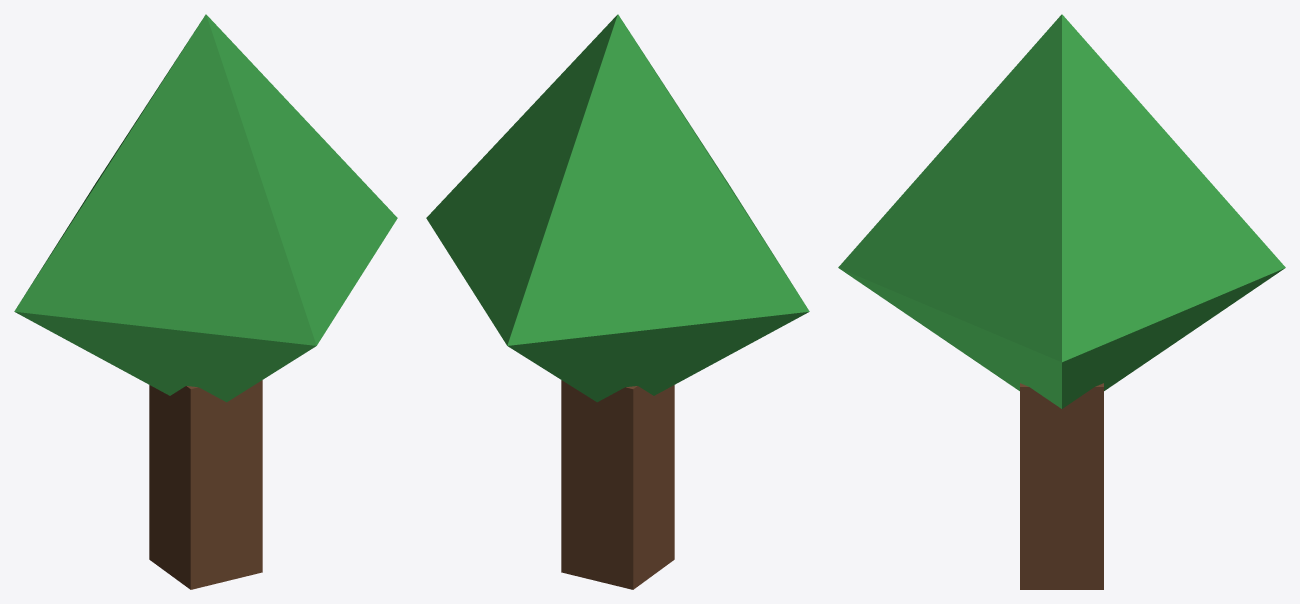
File: tree.obj
The picture shows the model from 3 angles, left to right: view 1: azimuth 30°, elevation 25°; view 2: azimuth 150°, elevation 25°; view 3: azimuth 270°, elevation 25°; orthographic projection.
Bounding box in the file's own units: 1.6 × 2.2 × 1.6.
